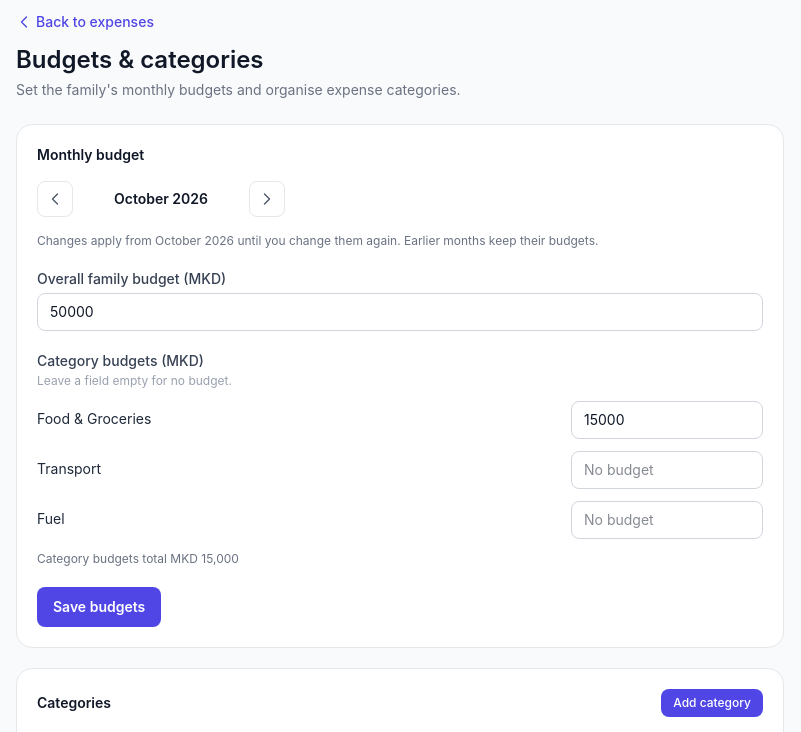
Expense settings: budgets › shows the server error when saving fails
Click the button "Save budgets": click(99, 607) left=37, top=587, right=161, bottom=627
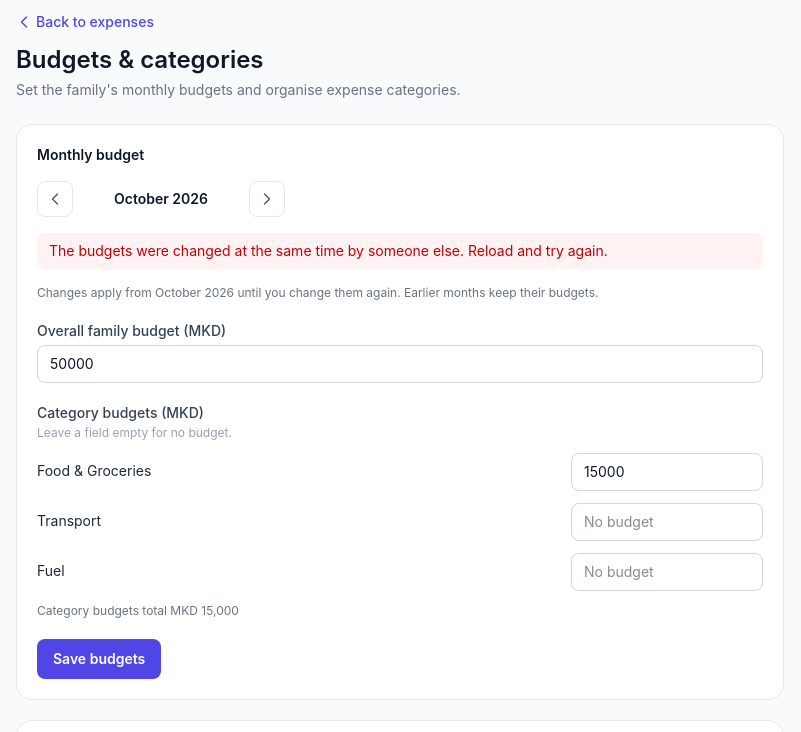
Expected: the text "The budgets were changed at the same time by someone else. Reload and try again." is shown, left=37, top=233, right=763, bottom=269
